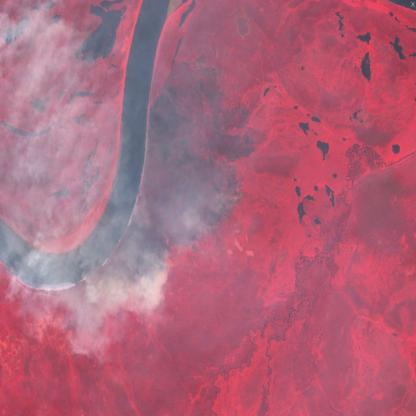fire: (109, 159, 245, 293)
